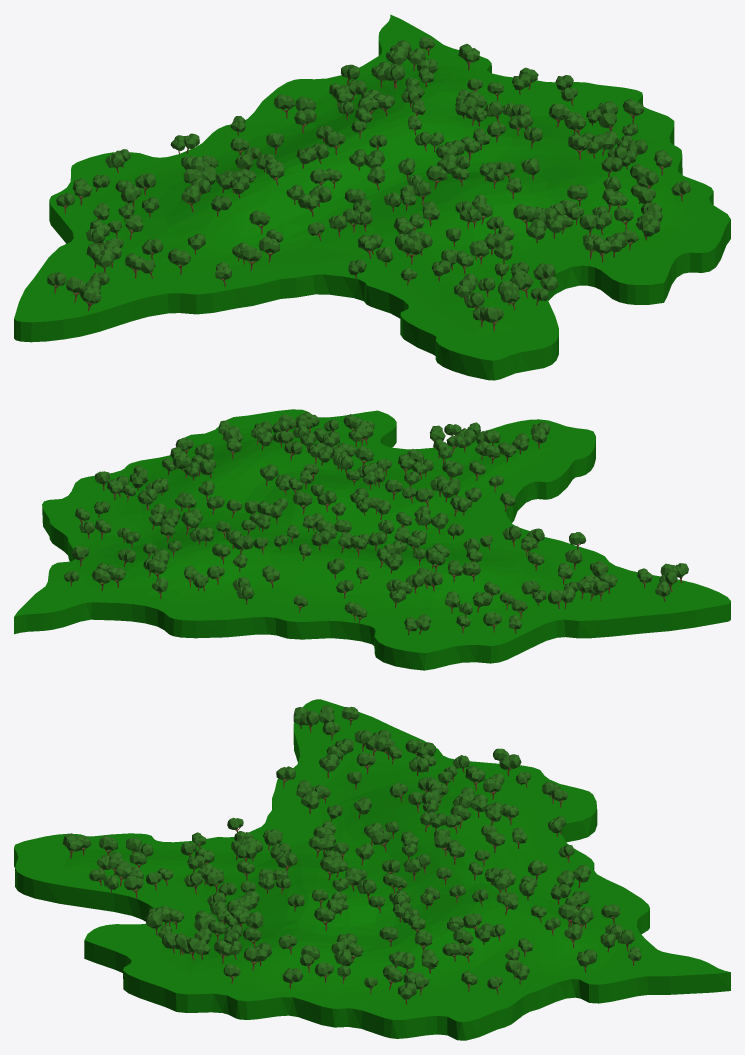
File: WorldPlains.fbx
The picture shows the model from 3 angles, top to bottom: view 1: azimuth 30°, elevation 25°; view 2: azimuth 150°, elevation 25°; view 3: azimuth 270°, elevation 25°; orthographic projection. The views are drawn at different scales.
Visible parts, largest first — view 1: Human_Plains; view 2: Human_Plains; view 3: Human_Plains.
Part boxes in pixels (left/top/right/bottom): Human_Plains: left=14, top=14, right=730, bottom=380; Human_Plains: left=14, top=409, right=730, bottom=670; Human_Plains: left=14, top=699, right=730, bottom=1040.
Bounding box in the file's own units: 741 × 696 × 61.06.
